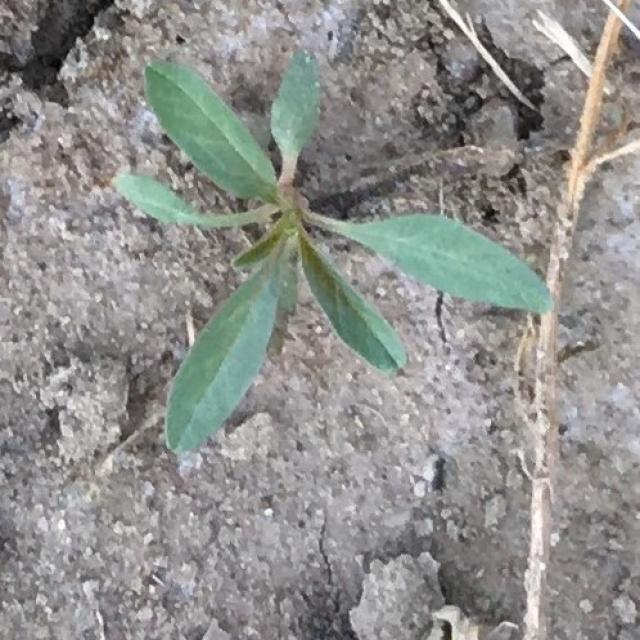Waterhemp: (110, 47, 556, 454)
